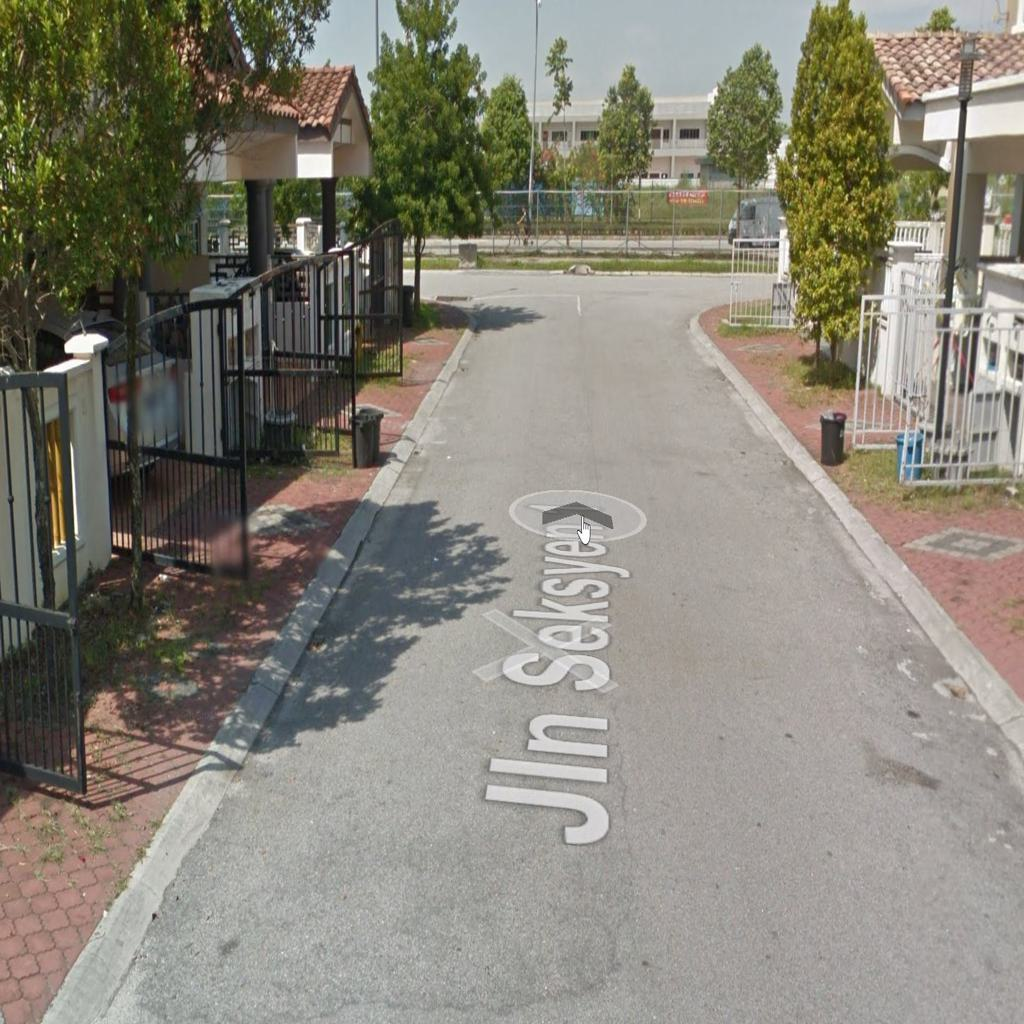Junction: (631, 240, 777, 341), (410, 243, 516, 320)
